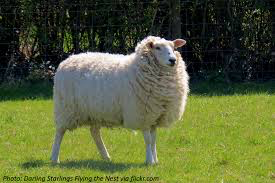koyun: (49, 35, 189, 172)
